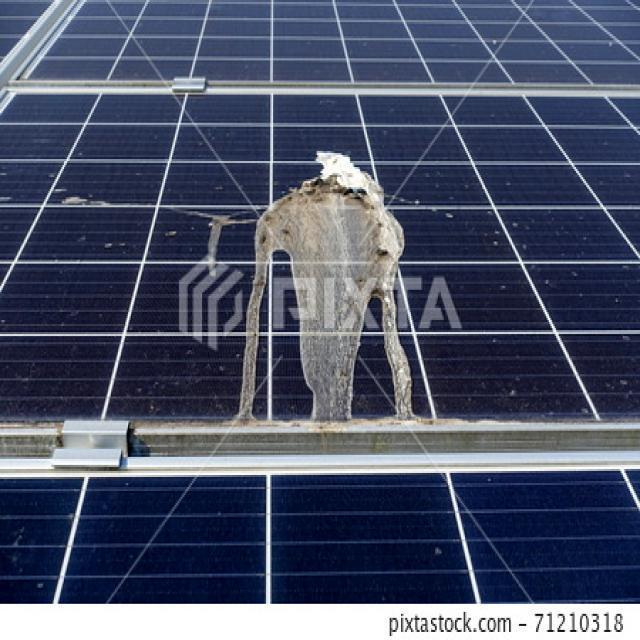soiled: (10, 91, 640, 438)
